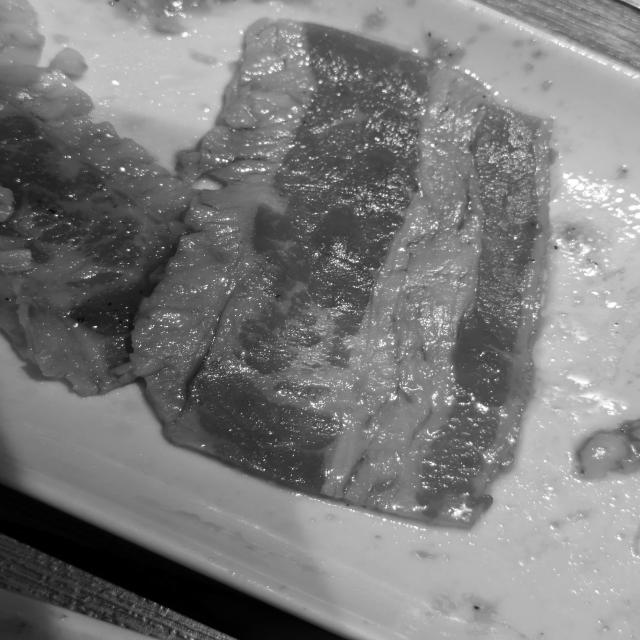NG raw beef,: (117, 13, 569, 545), (0, 0, 205, 406)
